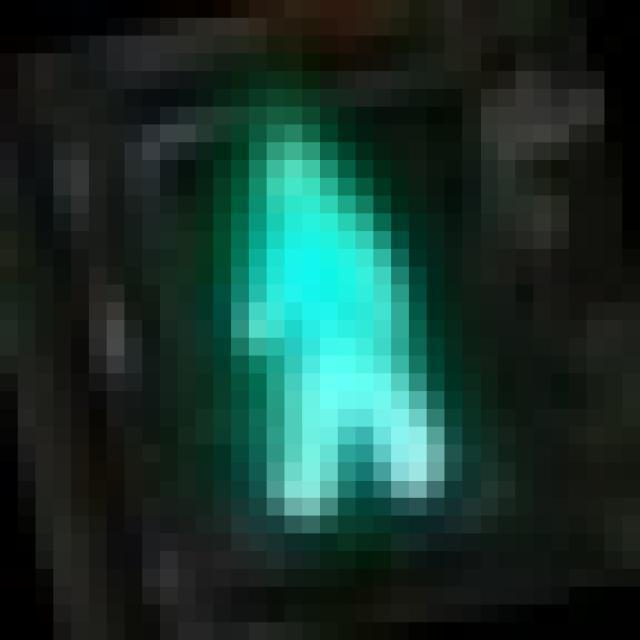geen-crossing: (89, 54, 498, 534)
